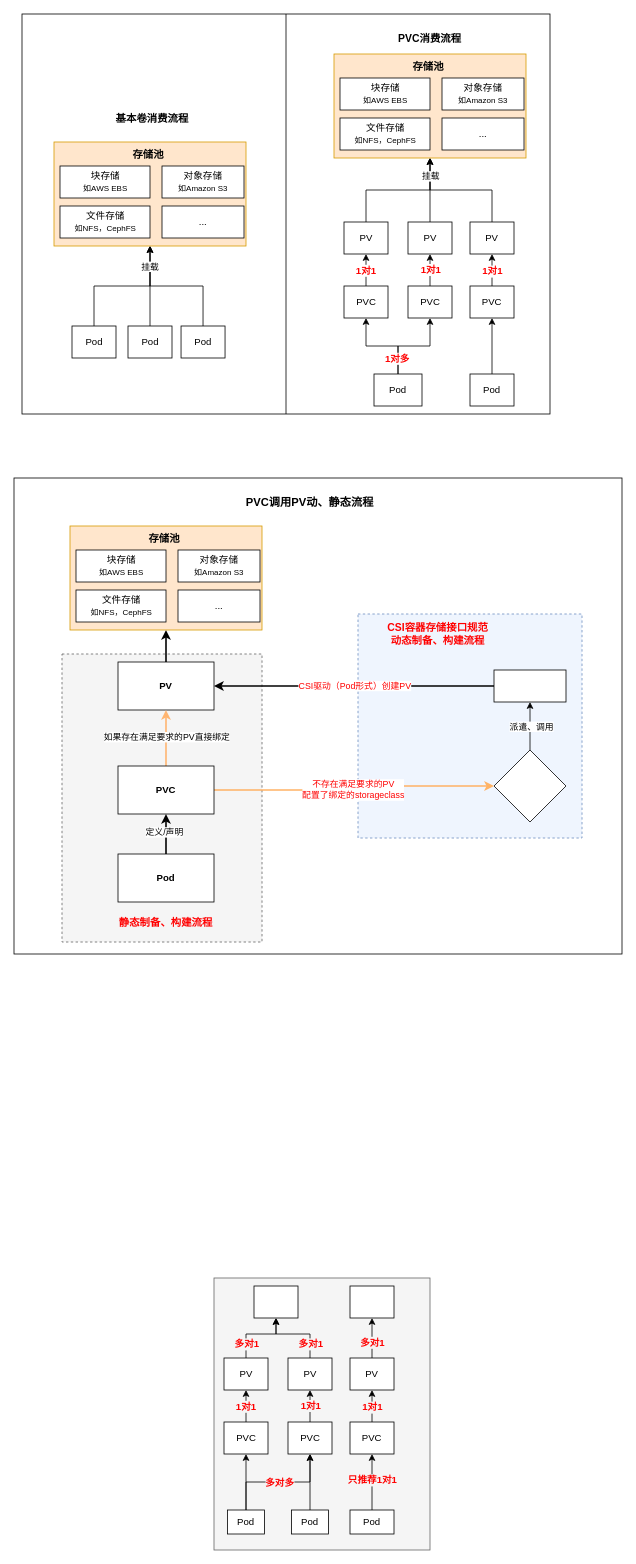
Image size: 636x1564. Some labels were removed from this diagram. The shapes that lost their labels are listed below. From the top down, each one's box as (x1, y1, x2, y2) in pixels, then its label:
(493, 669, 566, 702): privisioner 制备器
(493, 749, 566, 822): StorageClass
(253, 1285, 298, 1318): NFS
(349, 1285, 394, 1318): hostPath
